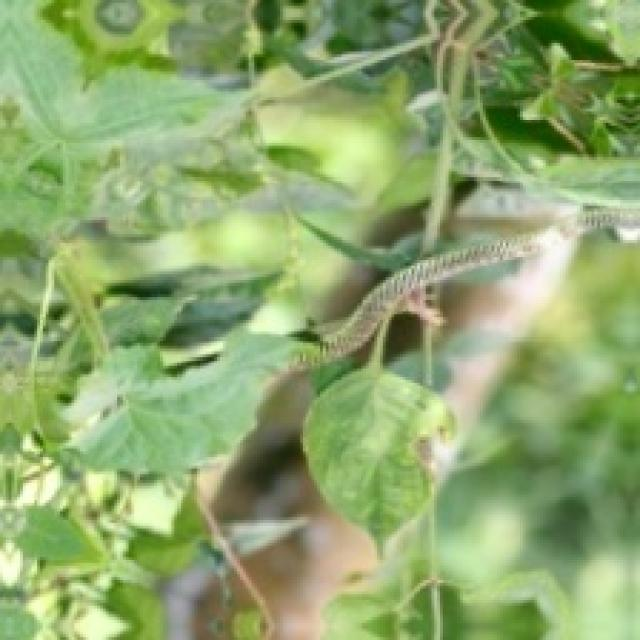paradise tree snake: (289, 206, 637, 369)
